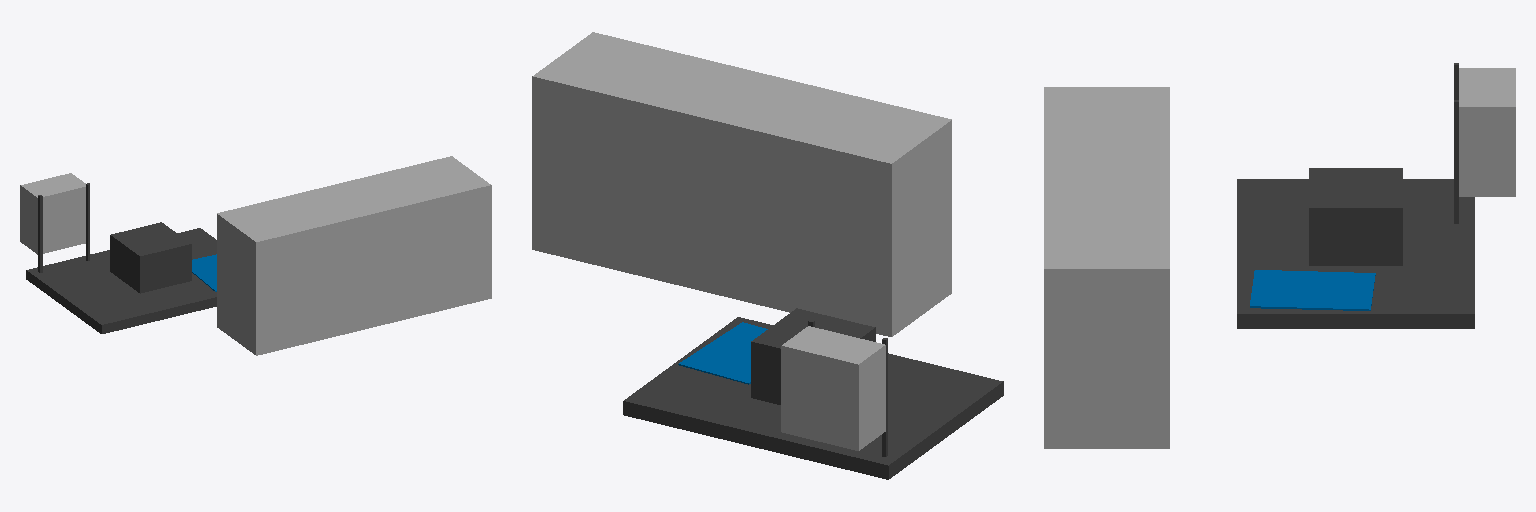
robot.urdf — snp_workcell:
<?xml version="1.0" ?>
<!-- =================================================================================== -->
<!-- |    This document was autogenerated by xacro from workcell.xacro                 | -->
<!-- |    EDITING THIS FILE BY HAND IS NOT RECOMMENDED                                 | -->
<!-- =================================================================================== -->
<robot name="snp_workcell">
  <!-- link list -->
  <link name="base_link">
    <visual>
      <origin rpy="0 0 0" xyz="0 0 0"/>
      <geometry>
        <mesh filename="package://snp_support/meshes/mh180/visual/base_link.stl"/>
      </geometry>
      <material name="blue">
        <color rgba="0 0 1 1"/>
      </material>
    </visual>
    <collision>
      <geometry>
        <mesh filename="package://snp_support/meshes/mh180/collision/base_link.stl"/>
      </geometry>
      <material name="yellow">
        <color rgba="0 1 1 1"/>
      </material>
    </collision>
  </link>
  <link name="link_s">
    <visual>
      <origin rpy="0 0 0" xyz="0 0 0"/>
      <geometry>
        <mesh filename="package://snp_support/meshes/mh180/visual/link_s.stl"/>
      </geometry>
      <material name="blue"/>
    </visual>
    <collision>
      <origin rpy="0 0 0" xyz="0 0 0"/>
      <geometry>
        <mesh filename="package://snp_support/meshes/mh180/collision/link_s.stl"/>
      </geometry>
      <material name="yellow"/>
    </collision>
  </link>
  <link name="link_l">
    <visual>
      <origin rpy="0 0 0" xyz="0 0 0"/>
      <geometry>
        <mesh filename="package://snp_support/meshes/mh180/visual/link_l.stl"/>
      </geometry>
      <material name="blue"/>
    </visual>
    <collision>
      <origin rpy="0 0 0" xyz="0 0 0"/>
      <geometry>
        <mesh filename="package://snp_support/meshes/mh180/collision/link_l.stl"/>
      </geometry>
      <material name="yellow"/>
    </collision>
  </link>
  <link name="link_u">
    <visual>
      <origin rpy="0 0 0" xyz="0 0 0"/>
      <geometry>
        <mesh filename="package://snp_support/meshes/mh180_120/visual/link_u.stl"/>
      </geometry>
      <material name="blue"/>
    </visual>
    <collision>
      <origin rpy="0 0 0" xyz="0 0 0"/>
      <geometry>
        <mesh filename="package://snp_support/meshes/mh180_120/collision/link_u.stl"/>
      </geometry>
      <material name="yellow"/>
    </collision>
  </link>
  <link name="link_r">
    <visual>
      <origin rpy="0 0 0" xyz="0 0 0"/>
      <geometry>
        <mesh filename="package://snp_support/meshes/mh180_120/visual/link_r.stl"/>
      </geometry>
      <material name="blue"/>
    </visual>
    <collision>
      <origin rpy="0 0 0" xyz="0 0 0"/>
      <geometry>
        <mesh filename="package://snp_support/meshes/mh180_120/collision/link_r.stl"/>
      </geometry>
      <material name="yellow"/>
    </collision>
  </link>
  <link name="link_b">
    <visual>
      <origin rpy="0 0 0" xyz="0 0 0"/>
      <geometry>
        <mesh filename="package://snp_support/meshes/mh180/visual/link_b.stl"/>
      </geometry>
      <material name="blue"/>
    </visual>
    <collision>
      <origin rpy="0 0 0" xyz="0 0 0"/>
      <geometry>
        <mesh filename="package://snp_support/meshes/mh180/collision/link_b.stl"/>
      </geometry>
      <material name="yellow"/>
    </collision>
  </link>
  <link name="link_t">
    <visual>
      <origin rpy="0 0 0" xyz="0 0 0"/>
      <geometry>
        <mesh filename="package://snp_support/meshes/mh180/visual/link_t.stl"/>
      </geometry>
      <material name="black">
        <color rgba="0 0 0 1"/>
      </material>
    </visual>
    <collision>
      <origin rpy="0 0 0" xyz="0 0 0"/>
      <geometry>
        <mesh filename="package://snp_support/meshes/mh180/collision/link_t.stl"/>
      </geometry>
      <material name="black"/>
    </collision>
  </link>
  <link name="tool0"/>
  <!-- end of link list -->
  <!-- joint list -->
  <joint name="joint_1" type="revolute">
    <origin rpy="0 0 0" xyz="0 0 0.650"/>
    <parent link="base_link"/>
    <child link="link_s"/>
    <axis xyz="0 0 1"/>
    <limit effort="0" lower="-3.141592653589793" upper="3.141592653589793" velocity="2.181661564992912"/>
  </joint>
  <joint name="joint_2" type="revolute">
    <origin rpy="0 0 0" xyz="0.325 0 0"/>
    <parent link="link_s"/>
    <child link="link_l"/>
    <axis xyz="0 1 0"/>
    <limit effort="0" lower="-1.0471975511965976" upper="1.3264502315156905" velocity="2.007128639793479"/>
  </joint>
  <joint name="joint_3" type="revolute">
    <origin rpy="0 0 0" xyz="0 0 1.150"/>
    <parent link="link_l"/>
    <child link="link_u"/>
    <axis xyz="0 -1 0"/>
    <limit effort="0" lower="-1.4835298641951802" upper="1.5707963267948966" velocity="2.181661564992912"/>
  </joint>
  <joint name="joint_4" type="revolute">
    <origin rpy="0 0 0" xyz="0 0 0.3"/>
    <parent link="link_u"/>
    <child link="link_r"/>
    <axis xyz="-1 0 0"/>
    <limit effort="0" lower="-6.283185307179586" upper="6.283185307179586" velocity="3.1764992386296798"/>
  </joint>
  <joint name="joint_5" type="revolute">
    <origin rpy="0 0 0" xyz="1.590 0 0"/>
    <parent link="link_r"/>
    <child link="link_b"/>
    <axis xyz="0 -1 0"/>
    <limit effort="0" lower="-2.2689280275926285" upper="2.2689280275926285" velocity="3.0543261909900767"/>
  </joint>
  <joint name="joint_6" type="revolute">
    <origin rpy="0 0 0" xyz="0.225 0 0"/>
    <parent link="link_b"/>
    <child link="link_t"/>
    <axis xyz="-1 0 0"/>
    <limit effort="0" lower="-6.283185307179586" upper="6.283185307179586" velocity="4.625122517784973"/>
  </joint>
  <joint name="joint_6-tool0" type="fixed">
    <origin rpy="0 1.5707963267948966 0" xyz="0 0 0"/>
    <parent link="link_t"/>
    <child link="tool0"/>
  </joint>
  <!-- end of joint list -->
  <!-- ROS base_link to Robot Manufacturer World Coordinates transform -->
  <link name="base"/>
  <joint name="base_link-base" type="fixed">
    <origin rpy="0 0 0" xyz="0 0 0.650"/>
    <parent link="base_link"/>
    <child link="base"/>
  </joint>
  <link name="pushcorp_base">
    <visual>
      <geometry>
        <mesh filename="package://snp_support/meshes/pushcorp/pushcorp_base.dae"/>
      </geometry>
    </visual>
    <collision>
      <geometry>
        <mesh filename="package://snp_support/meshes/pushcorp/pushcorp_base.dae"/>
      </geometry>
    </collision>
  </link>
  <link name="pushcorp_compliance">
    <visual>
      <geometry>
        <mesh filename="package://snp_support/meshes/pushcorp/pushcorp_compliance.dae"/>
      </geometry>
    </visual>
    <collision>
      <geometry>
        <mesh filename="package://snp_support/meshes/pushcorp/pushcorp_compliance.dae"/>
      </geometry>
    </collision>
  </link>
  <link name="camera_link"/>
  <link name="target_base_link">
    <visual>
      <origin rpy="1.5707963267948966 0 3.141592653589793" xyz="0.37565 0.2809875 0"/>
      <geometry>
        <mesh filename="package://snp_support/meshes/rosWorldCalib.dae"/>
      </geometry>
    </visual>
  </link>
  <joint name="tool0_to_pushcorp_base" type="fixed">
    <parent link="tool0"/>
    <child link="pushcorp_base"/>
    <origin rpy="1.5707963267948966 0 3.141592653589793" xyz="0 0 0.01635"/>
    <axis xyz="0 0 0"/>
  </joint>
  <joint name="robot_to_camera_joint" type="fixed">
    <parent link="tool0"/>
    <child link="camera_link"/>
    <origin rpy="0 0 0" xyz="0 0 0"/>
    <axis xyz="0 0 0"/>
  </joint>
  <joint name="world_to_target_joint" type="fixed">
    <parent link="floor"/>
    <child link="target_base_link"/>
    <origin rpy="0.004 -0.004 -1.628" xyz="0.555 0.061 0.126"/>
    <axis xyz="0 0 0"/>
  </joint>
  <link name="camera_color_optical_frame"/>
  <link name="target_cal_frame"/>
  <joint name="camera_cal_joint" type="fixed">
    <parent link="camera_link"/>
    <child link="camera_color_optical_frame"/>
    <origin wxyz="0.5118596229748543 -0.5074314040915237 0.4900425218487801 -0.4902768843111336" xyz="0.085549560652492 -0.1732631672558103 0.1329373703855808"/>
  </joint>
  <joint name="target_cal_joint" type="fixed">
    <parent link="floor"/>
    <child link="target_cal_frame"/>
    <origin wxyz="0.6869783604862724 -0.001114251051880176 -0.003909064875724348 -0.7266665052690842" xyz="0.555641489380775 0.05956001933889868 0.1229851433910979"/>
  </joint>
  <!-- TODO do we care about effort and velocity limits?-->
  <joint name="pushcorp_actuator" type="prismatic">
    <parent link="pushcorp_base"/>
    <child link="pushcorp_compliance"/>
    <origin rpy="0 0 0" xyz="0 0 0"/>
    <axis xyz="-1 0 0"/>
    <limit effort="0" lower="-0.01778" upper="0.01778" velocity="0"/>
  </joint>
  <material name="light_gray">
    <color rgba="0.7 0.7 0.7 1"/>
  </material>
  <material name="dark_gray">
    <color rgba="0.3 0.3 0.3 1"/>
  </material>
  <link name="floor"/>
  <link name="platform">
    <visual>
      <geometry>
        <box size="2.4383999999999997 1.8288 0.127"/>
      </geometry>
      <material name="dark_gray"/>
    </visual>
    <collision>
      <geometry>
        <box size="2.4383999999999997 1.8288 0.127"/>
      </geometry>
    </collision>
  </link>
  <link name="robot_mount">
    <visual>
      <geometry>
        <box size="0.7239 0.7239 0.49784"/>
      </geometry>
      <material name="dark_gray"/>
    </visual>
    <collision>
      <geometry>
        <box size="0.7239 0.7239 0.49784"/>
      </geometry>
    </collision>
  </link>
  <link name="pushcorp_box_support_1">
    <visual>
      <geometry>
        <box size="0.038099999999999995 0.038099999999999995 1.0287"/>
      </geometry>
      <material name="dark_gray"/>
    </visual>
    <collision>
      <geometry>
        <box size="0.038099999999999995 0.038099999999999995 1.0287"/>
      </geometry>
    </collision>
  </link>
  <link name="pushcorp_box_support_2">
    <visual>
      <geometry>
        <box size="0.038099999999999995 0.038099999999999995 1.0287"/>
      </geometry>
      <material name="dark_gray"/>
    </visual>
    <collision>
      <geometry>
        <box size="0.038099999999999995 0.038099999999999995 1.0287"/>
      </geometry>
    </collision>
  </link>
  <link name="pushcorp_box">
    <visual>
      <geometry>
        <box size="0.7111999999999999 0.43179999999999996 0.762"/>
      </geometry>
      <material name="light_gray"/>
    </visual>
    <collision>
      <geometry>
        <box size="0.7111999999999999 0.43179999999999996 0.762"/>
      </geometry>
    </collision>
  </link>
  <link name="control_boxes">
    <visual>
      <geometry>
        <box size="3.302 0.9652 1.524"/>
      </geometry>
      <material name="light_gray"/>
    </visual>
    <collision>
      <geometry>
        <box size="3.302 0.9652 1.524"/>
      </geometry>
    </collision>
  </link>
  <joint name="floor_to_platform" type="fixed">
    <parent link="floor"/>
    <child link="platform"/>
    <origin rpy="0 0 0" xyz="0 0 0.0635"/>
    <axis xyz="0 0 0"/>
  </joint>
  <joint name="platform_to_mount" type="fixed">
    <parent link="platform"/>
    <child link="robot_mount"/>
    <origin rpy="0 0 0" xyz="0 0 0.31242000000000003"/>
    <axis xyz="0 0 0"/>
  </joint>
  <joint name="floor_to_control_boxes" type="fixed">
    <parent link="floor"/>
    <child link="control_boxes"/>
    <origin rpy="0 0 0" xyz="1.7526 -1.9049999999999998 0.762"/>
    <axis xyz="0 0 0"/>
  </joint>
  <joint name="mount_to_base" type="fixed">
    <parent link="robot_mount"/>
    <child link="base_link"/>
    <origin rpy="0 0 0" xyz="0 0 0.24892"/>
    <axis xyz="0 0 0"/>
  </joint>
  <joint name="floor_to_pushcorp_support_1" type="fixed">
    <parent link="floor"/>
    <child link="pushcorp_box_support_1"/>
    <origin rpy="0 0 0" xyz="-0.43179999999999996 0.7746999999999999 0.64135"/>
    <axis xyz="0 0 0"/>
  </joint>
  <joint name="floor_to_pushcorp_support_2" type="fixed">
    <parent link="floor"/>
    <child link="pushcorp_box_support_2"/>
    <origin rpy="0 0 0" xyz="-1.1049 0.7746999999999999 0.64135"/>
    <axis xyz="0 0 0"/>
  </joint>
  <joint name="floor_to_pushcorp_box" type="fixed">
    <parent link="floor"/>
    <child link="pushcorp_box"/>
    <origin rpy="0 0 0" xyz="-0.76835 1.00965 0.7365999999999999"/>
    <axis xyz="0 0 0"/>
  </joint>
</robot>

--- What the picture shows (computed from the rendered views, not written in the file) ---
Views: 3 orthographic renders of the robot side by side, from view 1: azimuth 30°, elevation 25°; view 2: azimuth 150°, elevation 25°; view 3: azimuth 270°, elevation 25°.
Model snp_workcell with 22 links and 21 joints (6 revolute, 1 prismatic, 14 fixed), rooted at floor, posed every joint at zero.
Links seen in each view (by area): view 1: control_boxes, platform, robot_mount, pushcorp_box, target_base_link; view 2: control_boxes, platform, pushcorp_box, robot_mount, target_base_link; view 3: control_boxes, platform, robot_mount, pushcorp_box, target_base_link, pushcorp_box_support_1.
Link boxes in pixels (box(x1,y1,x2,y2)): control_boxes: box(217, 156, 491, 355); platform: box(26, 228, 216, 333); robot_mount: box(110, 222, 191, 293); pushcorp_box: box(20, 173, 85, 254); target_base_link: box(192, 254, 216, 291); control_boxes: box(532, 32, 951, 336); platform: box(623, 317, 1003, 479); pushcorp_box: box(781, 326, 885, 450); robot_mount: box(751, 308, 875, 404); target_base_link: box(678, 322, 767, 384); control_boxes: box(1044, 87, 1169, 448); platform: box(1237, 179, 1474, 328); robot_mount: box(1309, 168, 1402, 265); pushcorp_box: box(1459, 68, 1515, 196); target_base_link: box(1250, 270, 1375, 310); pushcorp_box_support_1: box(1454, 100, 1458, 223).
Size in the robot's own frame: 4.62 by 3.61 by 1.52 metres.
1 mesh visuals loaded from 10 distinct referenced files (1 Collada DAE); not drawn: 9 (reference not matched to a file when rendering).